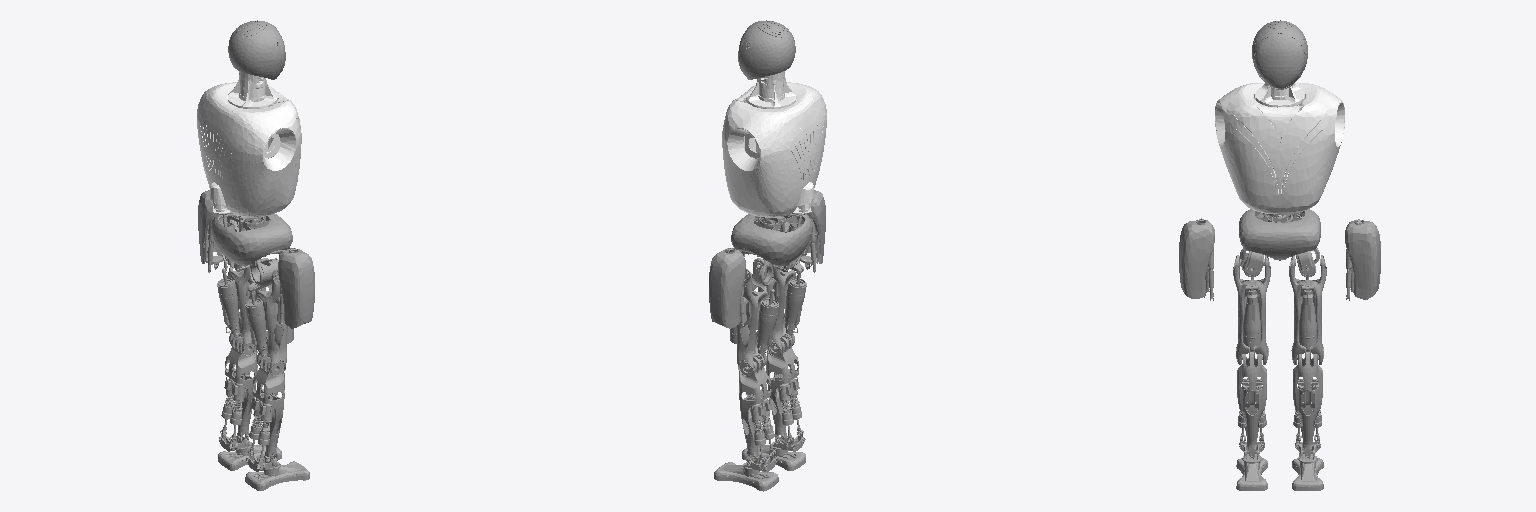
--- Facts derived from the render (not from the file) ---
The picture shows the robot from 3 angles, left to right: view 1: azimuth 30°, elevation 25°; view 2: azimuth 150°, elevation 25°; view 3: azimuth 270°, elevation 25°; orthographic projection.
Robot: RH5 — 56 links, 55 joints (32 revolute, 23 fixed); root link RH5_Root_Link; default pose: every joint at zero.
Visible links, largest first — view 1: BodyYaw_Link, RH5_Root_Link, HeadYaw_Link, LRKnee_Link, ARWristRoll_Link, LLKnee_Link, LRHip3_Link, LRHip2_Link, LRAnkle_FT, ALWristRoll_Link, LLHip3_Link, LLAnkle_FT (+1 smaller); view 2: BodyYaw_Link, RH5_Root_Link, HeadYaw_Link, ALWristRoll_Link, LLKnee_Link, LRKnee_Link, LLHip3_Link, LLAnkle_FT, ARWristRoll_Link, LRHip3_Link, LRHip2_Link, LRAnkle_FT (+1 smaller); view 3: BodyYaw_Link, RH5_Root_Link, HeadYaw_Link, ARWristRoll_Link, ALWristRoll_Link, LRHip3_Link, LLHip3_Link, LLKnee_Link, LRKnee_Link, LLAnkle_FT, LRAnkle_FT.
Link boxes in pixels (<box>): BodyYaw_Link: <box>197,71,301,217</box>; RH5_Root_Link: <box>211,213,292,271</box>; HeadYaw_Link: <box>228,20,285,79</box>; LRKnee_Link: <box>249,356,284,462</box>; ARWristRoll_Link: <box>278,248,314,328</box>; LLKnee_Link: <box>221,336,257,442</box>; LRHip3_Link: <box>255,258,293,375</box>; LRHip2_Link: <box>245,258,278,355</box>; LRAnkle_FT: <box>245,456,309,490</box>; ALWristRoll_Link: <box>198,190,227,272</box>; LLHip3_Link: <box>227,267,265,355</box>; LLAnkle_FT: <box>218,436,281,470</box>; BodyYaw_Link: <box>722,71,826,217</box>; RH5_Root_Link: <box>731,213,812,271</box>; HeadYaw_Link: <box>738,20,795,79</box>; ALWristRoll_Link: <box>709,248,745,328</box>; LLKnee_Link: <box>739,356,774,463</box>; LRKnee_Link: <box>766,336,801,443</box>; LLHip3_Link: <box>730,258,768,376</box>; LLAnkle_FT: <box>714,456,778,491</box>; ARWristRoll_Link: <box>799,190,825,272</box>; LRHip3_Link: <box>758,267,796,355</box>; LRHip2_Link: <box>785,262,806,335</box>; LRAnkle_FT: <box>742,436,805,470</box>; BodyYaw_Link: <box>1215,83,1344,214</box>; RH5_Root_Link: <box>1239,209,1320,260</box>; HeadYaw_Link: <box>1252,20,1307,89</box>; ARWristRoll_Link: <box>1179,218,1214,300</box>; ALWristRoll_Link: <box>1345,219,1380,300</box>; LRHip3_Link: <box>1233,255,1270,364</box>; LLHip3_Link: <box>1289,255,1326,364</box>; LLKnee_Link: <box>1293,347,1322,457</box>; LRKnee_Link: <box>1237,347,1266,457</box>; LLAnkle_FT: <box>1292,441,1323,490</box>; LRAnkle_FT: <box>1236,441,1267,490</box>.
Bounding box of the posed robot: 0.3672 × 0.8021 × 1.98 m (x, y, z).
Meshes: 53 distinct files referenced, 65 mesh visuals loaded (42 binary STL); not drawn: 17 (reference not matched to a file when rendering).

URDF robot description (RH5):
<robot name="RH5">
  <joint name="ALElbow" type="revolute">
    <origin xyz="0.0 0.0 0.355" rpy="1.5708 -1.5708 0.0"/>
    <axis xyz="0.0 0.0 -1.0"/>
    <parent link="ALShoulder3_Link"/>
    <child link="ALElbow_Link"/>
    <limit effort="30.0" lower="-1.62" upper="0.1872" velocity="1.8326"/>
  </joint>
  <link name="ALElbow_Link">
    <inertial>
      <origin xyz="0.010641 3.9392e-07 0.0080701" rpy="0.0 0.0 0.0"/>
      <mass value="0.255"/>
      <inertia ixx="0.00028052" ixy="-4.0187e-09" ixz="2.2663e-05" iyy="0.00036848" iyz="2.9394e-09" izz="0.00038255"/>
    </inertial>
    <visual name="ALElbow_Link_visual">
      <origin xyz="0.0 0.0 0.0" rpy="0.0 0.0 0.0"/>
      <geometry>
        <mesh filename="../meshes/stl/ALElbow_Link.STL"/>
      </geometry>
      <material name="">
        <color rgba="0.69804 0.69804 0.69804 1.0"/>
      </material>
    </visual>
  </link>
  <joint name="ALShoulder" type="fixed">
    <origin xyz="0.012 0.313 0.386" rpy="1.5708 0.0 2.8988"/>
    <parent link="BodyYaw_Link"/>
    <child link="ALShoulder_Link"/>
    <limit effort="150.0" lower="0.0" upper="0.0" velocity="1.658"/>
  </joint>
  <joint name="ALShoulder1" type="revolute">
    <origin xyz="0.0 0.0 0.0" rpy="1.5708 -1.5708 0.0"/>
    <axis xyz="1.0 0.0 0.0"/>
    <parent link="ALShoulder_Link"/>
    <child link="ALShoulder1_Link"/>
    <limit effort="135.0" lower="-3.0543" upper="3.0543" velocity="1.8326"/>
  </joint>
  <link name="ALShoulder1_Link">
    <inertial>
      <origin xyz="-0.053027 0.0029798 -1.6132e-07" rpy="0.0 0.0 0.0"/>
      <mass value="0.47438"/>
      <inertia ixx="0.0013753" ixy="3.4317e-05" ixz="-5.2624e-09" iyy="0.00084701" iyz="1.2533e-08" izz="0.0018205"/>
    </inertial>
    <visual name="ALShoulder1_Link_visual">
      <origin xyz="0.0 0.0 0.0" rpy="0.0 0.0 0.0"/>
      <geometry>
        <mesh filename="../meshes/stl/ALShoulder1_Link.STL"/>
      </geometry>
      <material name="">
        <color rgba="0.69804 0.69804 0.69804 1.0"/>
      </material>
    </visual>
  </link>
  <joint name="ALShoulder2" type="revolute">
    <origin xyz="0.0 0.0 0.0" rpy="0.0 1.9722e-31 0.0"/>
    <axis xyz="0.0 1.0 0.0"/>
    <parent link="ALShoulder1_Link"/>
    <child link="ALShoulder2_Link"/>
    <limit effort="167.0" lower="-0.5236" upper="1.571" velocity="1.8326"/>
  </joint>
  <link name="ALShoulder2_Link">
    <inertial>
      <origin xyz="2.5304e-05 0.0076989 0.0023608" rpy="0.0 0.0 0.0"/>
      <mass value="0.98"/>
      <inertia ixx="0.0012245" ixy="3.9462e-07" ixz="5.5448e-07" iyy="0.0010372" iyz="3.2296e-05" izz="0.0012057"/>
    </inertial>
    <visual name="ALShoulder2_Link_visual">
      <origin xyz="0.0 0.0 0.0" rpy="0.0 0.0 0.0"/>
      <geometry>
        <mesh filename="../meshes/stl/ALShoulder2_Link.STL"/>
      </geometry>
      <material name="">
        <color rgba="0.69804 0.69804 0.69804 1.0"/>
      </material>
    </visual>
  </link>
  <joint name="ALShoulder3" type="revolute">
    <origin xyz="0.0 0.0 0.0" rpy="0.0 1.9722e-31 0.0"/>
    <axis xyz="0.0 0.0 1.0"/>
    <parent link="ALShoulder2_Link"/>
    <child link="ALShoulder3_Link"/>
    <limit effort="53.0" lower="-3.0543" upper="3.0543" velocity="1.8326"/>
  </joint>
  <link name="ALShoulder3_Link">
    <inertial>
      <origin xyz="7.9284e-06 3.7845e-05 0.16439" rpy="0.0 0.0 0.0"/>
      <mass value="1.3999"/>
      <inertia ixx="0.013898" ixy="1.2682e-06" ixz="8.7833e-07" iyy="0.013686" iyz="2.7121e-06" izz="0.0019878"/>
    </inertial>
    <visual name="ALShoulder3_Link_visual">
      <origin xyz="0.0 0.0 0.0" rpy="0.0 0.0 0.0"/>
      <geometry>
        <mesh filename="../meshes/stl/ALShoulder3_Link.STL"/>
      </geometry>
      <material name="">
        <color rgba="0.69804 0.69804 0.69804 1.0"/>
      </material>
    </visual>
    <collision name="ALShoulder3_Link_collision">
      <origin xyz="-1.862645149230957e-09 4.284083843231201e-08 0.2224999964237213" rpy="0.0 -0.0 0.0"/>
      <geometry>
        <box size="0.08700039610266685 0.11106326058506966 0.34700000286102295"/>
      </geometry>
    </collision>
  </link>
  <link name="ALShoulder_Link"/>
  <joint name="ALWristPitch" type="revolute">
    <origin xyz="0.0 0.0 0.0" rpy="-4.9304e-32 -9.5526e-32 0.0"/>
    <axis xyz="0.0 1.0 0.0"/>
    <parent link="ALWristYaw_Link"/>
    <child link="ALWristPitch_Link"/>
    <limit effort="12.5" lower="-3.1416" upper="3.1416" velocity="5.0"/>
  </joint>
  <link name="ALWristPitch_Link">
    <inertial>
      <origin xyz="3.0531e-14 -6.0923e-15 -3.3085e-14" rpy="0.0 0.0 0.0"/>
      <mass value="6.2832e-06"/>
      <inertia ixx="3.6652e-12" ixy="1.757e-26" ixz="2.9539e-41" iyy="3.1416e-12" iyz="-9.766e-28" izz="3.6652e-12"/>
    </inertial>
    <visual name="ALWristPitch_Link_visual">
      <origin xyz="0.0 0.0 0.0" rpy="0.0 0.0 0.0"/>
      <geometry>
        <mesh filename="../meshes/stl/ALWristPitch_Link.STL"/>
      </geometry>
      <material name="">
        <color rgba="0.79216 0.81961 0.93333 1.0"/>
      </material>
    </visual>
  </link>
  <joint name="ALWristRoll" type="revolute">
    <origin xyz="0.386 0.0 0.0" rpy="-1.5708 3.1415926536 1.5708"/>
    <axis xyz="0.0 0.0 -1.0"/>
    <parent link="ALElbow_Link"/>
    <child link="ALWristRoll_Link"/>
    <limit effort="53.0" lower="-3.0543" upper="3.0543" velocity="1.8326"/>
  </joint>
  <link name="ALWristRoll_Link">
    <inertial>
      <origin xyz="0.025274 -4.3815e-06 0.19965" rpy="0.0 0.0 0.0"/>
      <mass value="2.7535303221510077"/>
      <inertia ixx="0.02143437784400675" ixy="-9.847185892502454e-07" ixz="0.002595868954405005" iyy="0.02185740729863702" iyz="9.795344617435307e-07" izz="0.005193234315356229"/>
    </inertial>
    <visual name="ALWristRoll_Link_visual">
      <origin xyz="0.0 0.0 0.0" rpy="0.0 0.0 0.0"/>
      <geometry>
        <mesh filename="../meshes/stl/ALWristRoll_Link.STL"/>
      </geometry>
      <material name="">
        <color rgba="0.69804 0.69804 0.69804 1.0"/>
      </material>
    </visual>
    <collision name="ALWristRoll_Link_collision">
      <origin xyz="0.014875711873173714 0.0 0.16224999818950891" rpy="0.0 -0.0 0.0"/>
      <geometry>
        <box size="0.13932063803076744 0.11817342042922974 0.34249999932944775"/>
      </geometry>
    </collision>
    <visual name="ALWrist_B11_Link_visual">
      <origin xyz="-0.032 -0.016 0.2616" rpy="3.0704 -3.3070000000000003e-15 -2.7145e-14"/>
      <geometry>
        <mesh filename="../meshes/stl/ALWrist_B11_Link.STL"/>
      </geometry>
      <material name="">
        <color rgba="0.64706 0.61961 0.58824 1.0"/>
      </material>
    </visual>
    <visual name="ALWrist_B12_Link_visual">
      <origin xyz="-0.032 -0.016 0.2616" rpy="3.070392054331078 0.014927088938295474 -0.0010645773830478876"/>
      <geometry>
        <mesh filename="../meshes/stl/ALWrist_B12_Link.STL"/>
      </geometry>
      <material name="">
        <color rgba="0.69804 0.69804 0.69804 1.0"/>
      </material>
    </visual>
    <visual name="ALWrist_Act1_Link_visual">
      <origin xyz="-0.03600014483987568 -0.03501230750565344 -0.005003014057550548" rpy="3.1415480000000042 -2.3388489558662824e-15 -1.3532290290170274e-14"/>
      <geometry>
        <mesh filename="../meshes/stl/ALWrist_Act1_Link.STL"/>
      </geometry>
      <material name="">
        <color rgba="0.69804 0.69804 0.69804 1.0"/>
      </material>
    </visual>
    <visual name="ALWrist_B21_Link_visual">
      <origin xyz="-0.032 0.016 0.2616" rpy="-3.0704 0.014927000000000003 0.0010639000000000002"/>
      <geometry>
        <mesh filename="../meshes/stl/ALWrist_B21_Link.STL"/>
      </geometry>
      <material name="">
        <color rgba="0.64706 0.61961 0.58824 1.0"/>
      </material>
    </visual>
    <visual name="ALWrist_B22_Link_visual">
      <origin xyz="-0.032 0.016 0.2616" rpy="-3.0703969702485048 0.017543554826743444 0.0012505233584122017"/>
      <geometry>
        <mesh filename="../meshes/stl/ALWrist_B22_Link.STL"/>
      </geometry>
      <material name="">
        <color rgba="0.69804 0.69804 0.69804 1.0"/>
      </material>
    </visual>
    <visual name="ALWrist_Act2_Link_visual">
      <origin xyz="-0.036000141211532416 0.035010257045837365 -0.0050040824232726044" rpy="-3.0704 0.014927 0.0010639000000000533"/>
      <geometry>
        <mesh filename="../meshes/stl/ALWrist_Act2_Link.STL"/>
      </geometry>
      <material name="">
        <color rgba="0.69804 0.69804 0.69804 1.0"/>
      </material>
    </visual>
  </link>
  <joint name="ALWristYaw" type="revolute">
    <origin xyz="0.0 0.0 0.0" rpy="-4.9304e-32 -9.5526e-32 0.0"/>
    <axis xyz="1.0 0.0 0.0"/>
    <parent link="ALWristRoll_Link"/>
    <child link="ALWristYaw_Link"/>
    <limit effort="12.5" lower="-1.2566" upper="0.7853" velocity="5.0"/>
  </joint>
  <link name="ALWristYaw_Link">
    <inertial>
      <origin xyz="-3.8303e-15 -5.8703e-15 -1.6653e-16" rpy="0.0 0.0 0.0"/>
      <mass value="0.006976"/>
      <inertia ixx="1.0349e-06" ixy="-7.3387e-21" ixz="1.7878e-22" iyy="4.8433e-07" iyz="-5.1569e-21" izz="1.4399e-06"/>
    </inertial>
    <visual name="ALWristYaw_Link_visual">
      <origin xyz="0.0 0.0 0.0" rpy="0.0 0.0 0.0"/>
      <geometry>
        <mesh filename="../meshes/stl/ALWristYaw_Link.STL"/>
      </geometry>
      <material name="">
        <color rgba="0.79216 0.81961 0.93333 1.0"/>
      </material>
    </visual>
  </link>
  <link name="ALWrist_FT">
    <inertial>
      <origin xyz="0.0013964 -8.0618e-05 0.041768" rpy="0.0 0.0 0.0"/>
      <mass value="0.46746"/>
      <inertia ixx="0.0011813" ixy="9.7393e-07" ixz="-6.577e-05" iyy="0.00099999" iyz="3.5173e-06" izz="0.00055976"/>
    </inertial>
    <visual name="ALWrist_FT_visual">
      <origin xyz="0.0 0.0 0.0" rpy="0.0 0.0 0.0"/>
      <geometry>
        <mesh filename="../meshes/stl/ALWrist_FT.STL"/>
      </geometry>
      <material name="">
        <color rgba="0.69804 0.69804 0.69804 1.0"/>
      </material>
    </visual>
    <collision name="ALWrist_FT_collision">
      <origin xyz="0.004535641521215439 -9.125098586082458e-06 0.05165606364607811" rpy="0.0 -0.0 0.0"/>
      <geometry>
        <box size="0.0960712879896164 0.1100204549729824 0.1812121346592903"/>
      </geometry>
    </collision>
  </link>
  <joint name="ALWrist_FT" type="fixed">
    <origin xyz="0.0 0.0 -0.02995" rpy="-3.1416 -2.9034e-15 1.6653e-16"/>
    <axis xyz="0.0 0.0 0.0"/>
    <parent link="ALWristPitch_Link"/>
    <child link="ALWrist_FT"/>
  </joint>
  <link name="object_link"/>
  <joint name="object" type="fixed">
    <origin xyz="-0.25 0.0 0" rpy="1.5708 -1.5708 0"/>
    <axis xyz="0.0 0.0 0.0"/>
    <parent link="ARWrist_FT"/>
    <child link="object_link"/>
  </joint>
  <joint name="ARElbow" type="revolute">
    <origin xyz="0.0 0.0 0.355" rpy="1.5708 -1.5708 0.0"/>
    <axis xyz="0.0 0.0 -1.0"/>
    <parent link="ARShoulder3_Link"/>
    <child link="ARElbow_Link"/>
    <limit effort="30.0" lower="-0.1872" upper="1.62" velocity="1.8326"/>
  </joint>
  <link name="ARElbow_Link">
    <inertial>
      <origin xyz="0.010641 3.9392e-07 0.0080701" rpy="0.0 0.0 0.0"/>
      <mass value="0.255"/>
      <inertia ixx="0.00028052" ixy="-4.0187e-09" ixz="2.2663e-05" iyy="0.00036848" iyz="2.9394e-09" izz="0.00038255"/>
    </inertial>
    <visual name="ARElbow_Link_visual">
      <origin xyz="0.0 0.0 0.0" rpy="0.0 0.0 0.0"/>
      <geometry>
        <mesh filename="../meshes/stl/ALElbow_Link.STL"/>
      </geometry>
      <material name="">
        <color rgba="0.69804 0.69804 0.69804 1.0"/>
      </material>
    </visual>
  </link>
  <joint name="ARShoulder" type="fixed">
    <origin xyz="0.012 -0.313 0.386" rpy="1.5708 0.0 0.2428"/>
    <parent link="BodyYaw_Link"/>
    <child link="ARShoulder_Link"/>
    <limit effort="150.0" lower="0.0" upper="0.0" velocity="1.658"/>
  </joint>
  <joint name="ARShoulder1" type="revolute">
    <origin xyz="0.0 0.0 0.0" rpy="1.5708 1.5708 0.0"/>
    <axis xyz="-1.0 0.0 0.0"/>
    <parent link="ARShoulder_Link"/>
    <child link="ARShoulder1_Link"/>
    <limit effort="135.0" lower="-3.0543" upper="3.0543" velocity="1.8326"/>
  </joint>
  <link name="ARShoulder1_Link">
    <inertial>
      <origin xyz="0.053027 0.0029798 1.6135e-07" rpy="0.0 0.0 0.0"/>
      <mass value="0.47438"/>
      <inertia ixx="0.0013753" ixy="-3.4317e-05" ixz="-5.2626e-09" iyy="0.000847" iyz="-1.2533e-08" izz="0.0018205"/>
    </inertial>
    <visual name="ARShoulder1_Link_visual">
      <origin xyz="0.0 0.0 0.0" rpy="0.0 0.0 0.0"/>
      <geometry>
        <mesh filename="../meshes/stl/ARShoulder1_Link.STL"/>
      </geometry>
      <material name="">
        <color rgba="0.69804 0.69804 0.69804 1.0"/>
      </material>
    </visual>
  </link>
  <joint name="ARShoulder2" type="revolute">
    <origin xyz="0.0 0.0 0.0" rpy="0.0 -1.9722e-31 0.0"/>
    <axis xyz="0.0 1.0 0.0"/>
    <parent link="ARShoulder1_Link"/>
    <child link="ARShoulder2_Link"/>
    <limit effort="167.0" lower="-1.571" upper="0.5236" velocity="1.8326"/>
  </joint>
  <link name="ARShoulder2_Link">
    <inertial>
      <origin xyz="2.5307e-05 0.0076989 0.0023608" rpy="0.0 0.0 0.0"/>
      <mass value="0.98"/>
      <inertia ixx="0.0012245" ixy="3.9471e-07" ixz="5.5464e-07" iyy="0.0010372" iyz="3.2296e-05" izz="0.0012057"/>
    </inertial>
    <visual name="ARShoulder2_Link_visual">
      <origin xyz="0.0 0.0 0.0" rpy="0.0 0.0 0.0"/>
      <geometry>
        <mesh filename="../meshes/stl/ARShoulder2_Link.STL"/>
      </geometry>
      <material name="">
        <color rgba="0.69804 0.69804 0.69804 1.0"/>
      </material>
    </visual>
  </link>
  <joint name="ARShoulder3" type="revolute">
    <origin xyz="0.0 0.0 0.0" rpy="0.0 1.9722e-31 0.0"/>
    <axis xyz="0.0 0.0 1.0"/>
    <parent link="ARShoulder2_Link"/>
    <child link="ARShoulder3_Link"/>
    <limit effort="53.0" lower="-3.0543" upper="3.0543" velocity="1.8326"/>
  </joint>
  <link name="ARShoulder3_Link">
    <inertial>
      <origin xyz="7.9284e-06 3.7845e-05 0.16439" rpy="0.0 0.0 0.0"/>
      <mass value="1.3999"/>
      <inertia ixx="0.013898" ixy="1.2682e-06" ixz="8.7833e-07" iyy="0.013686" iyz="2.7121e-06" izz="0.0019878"/>
    </inertial>
    <visual name="ARShoulder3_Link_visual">
      <origin xyz="0.0 0.0 0.0" rpy="0.0 0.0 0.0"/>
      <geometry>
        <mesh filename="../meshes/stl/ALShoulder3_Link.STL"/>
      </geometry>
      <material name="">
        <color rgba="0.69804 0.69804 0.69804 1.0"/>
      </material>
    </visual>
    <collision name="ARShoulder3_Link_collision">
      <origin xyz="-1.862645149230957e-09 4.284083843231201e-08 0.2224999964237213" rpy="0.0 -0.0 0.0"/>
      <geometry>
        <box size="0.08700039610266685 0.11106326058506966 0.34700000286102295"/>
      </geometry>
    </collision>
  </link>
  <link name="ARShoulder_Link"/>
  <joint name="ARWristPitch" type="revolute">
    <origin xyz="0.0 0.0 0.0" rpy="-4.9304e-32 -9.5526e-32 0.0"/>
    <axis xyz="0.0 1.0 0.0"/>
    <parent link="ARWristYaw_Link"/>
    <child link="ARWristPitch_Link"/>
    <limit effort="12.5" lower="-3.1416" upper="3.1416" velocity="5.0"/>
  </joint>
  <link name="ARWristPitch_Link">
    <inertial>
      <origin xyz="3.0531e-14 -6.0923e-15 -3.3085e-14" rpy="0.0 0.0 0.0"/>
      <mass value="6.2832e-06"/>
      <inertia ixx="3.6652e-12" ixy="1.757e-26" ixz="2.9539e-41" iyy="3.1416e-12" iyz="-9.766e-28" izz="3.6652e-12"/>
    </inertial>
    <visual name="ARWristPitch_Link_visual">
      <origin xyz="0.0 0.0 0.0" rpy="0.0 0.0 0.0"/>
      <geometry>
        <mesh filename="../meshes/stl/ALWristPitch_Link.STL"/>
      </geometry>
      <material name="">
        <color rgba="0.79216 0.81961 0.93333 1.0"/>
      </material>
    </visual>
  </link>
  <joint name="ARWristRoll" type="revolute">
    <origin xyz="0.386 0.0 0.0" rpy="-1.5708 0.0 1.5708"/>
    <axis xyz="0.0 0.0 -1.0"/>
    <parent link="ARElbow_Link"/>
    <child link="ARWristRoll_Link"/>
    <limit effort="53.0" lower="-3.0543" upper="3.0543" velocity="1.8326"/>
  </joint>
  <link name="ARWristRoll_Link">
    <inertial>
      <origin xyz="0.025274 -4.3815e-06 0.19965" rpy="0.0 0.0 0.0"/>
      <mass value="2.7535303221510077"/>
      <inertia ixx="0.02143437784400675" ixy="-9.847185892502454e-07" ixz="0.002595868954405005" iyy="0.02185740729863702" iyz="9.795344617435307e-07" izz="0.005193234315356229"/>
    </inertial>
    <visual name="ARWristRoll_Link_visual">
      <origin xyz="0.0 0.0 0.0" rpy="0.0 0.0 0.0"/>
      <geometry>
        <mesh filename="../meshes/stl/ALWristRoll_Link.STL"/>
      </geometry>
      <material name="">
        <color rgba="0.69804 0.69804 0.69804 1.0"/>
      </material>
    </visual>
    <collision name="ARWristRoll_Link_collision">
      <origin xyz="0.014875711873173714 0.0 0.16224999818950891" rpy="0.0 -0.0 0.0"/>
      <geometry>
        <box size="0.13932063803076744 0.11817342042922974 0.34249999932944775"/>
      </geometry>
    </collision>
    <visual name="ARWrist_B11_Link_visual">
      <origin xyz="-0.032 -0.016 0.2616" rpy="3.0704 -3.3070000000000003e-15 -2.7145e-14"/>
      <geometry>
        <mesh filename="../meshes/stl/ALWrist_B11_Link.STL"/>
      </geometry>
      <material name="">
        <color rgba="0.64706 0.61961 0.58824 1.0"/>
      </material>
    </visual>
    <visual name="ARWrist_B12_Link_visual">
      <origin xyz="-0.032 -0.016 0.2616" rpy="3.070392054331078 0.014927088938295474 -0.0010645773830478876"/>
      <geometry>
        <mesh filename="../meshes/stl/ALWrist_B12_Link.STL"/>
      </geometry>
      <material name="">
        <color rgba="0.69804 0.69804 0.69804 1.0"/>
      </material>
    </visual>
    <visual name="ARWrist_Act1_Link_visual">
      <origin xyz="-0.03600014483987568 -0.03501230750565344 -0.005003014057550548" rpy="3.1415480000000042 -2.3388489558662824e-15 -1.3532290290170274e-14"/>
      <geometry>
        <mesh filename="../meshes/stl/ALWrist_Act1_Link.STL"/>
      </geometry>
      <material name="">
        <color rgba="0.69804 0.69804 0.69804 1.0"/>
      </material>
    </visual>
    <visual name="ARWrist_B21_Link_visual">
      <origin xyz="-0.032 0.016 0.2616" rpy="-3.0704 0.014927000000000003 0.0010639000000000002"/>
      <geometry>
        <mesh filename="../meshes/stl/ALWrist_B21_Link.STL"/>
      </geometry>
      <material name="">
        <color rgba="0.64706 0.61961 0.58824 1.0"/>
      </material>
    </visual>
    <visual name="ARWrist_B22_Link_visual">
      <origin xyz="-0.032 0.016 0.2616" rpy="-3.0703969702485048 0.017543554826743444 0.0012505233584122017"/>
      <geometry>
        <mesh filename="../meshes/stl/ALWrist_B22_Link.STL"/>
      </geometry>
      <material name="">
        <color rgba="0.69804 0.69804 0.69804 1.0"/>
      </material>
    </visual>
    <visual name="ARWrist_Act2_Link_visual">
      <origin xyz="-0.036000141211532416 0.035010257045837365 -0.0050040824232726044" rpy="-3.0704 0.014927 0.0010639000000000533"/>
      <geometry>
        <mesh filename="../meshes/stl/ALWrist_Act2_Link.STL"/>
      </geometry>
      <material name="">
        <color rgba="0.69804 0.69804 0.69804 1.0"/>
      </material>
    </visual>
  </link>
  <joint name="ARWristYaw" type="revolute">
    <origin xyz="0.0 0.0 0.0" rpy="-4.9304e-32 -9.5526e-32 0.0"/>
    <axis xyz="1.0 0.0 0.0"/>
    <parent link="ARWristRoll_Link"/>
    <child link="ARWristYaw_Link"/>
    <limit effort="12.5" lower="-1.2566" upper="0.7853" velocity="5.0"/>
  </joint>
  <link name="ARWristYaw_Link">
    <inertial>
      <origin xyz="-3.8303e-15 -5.8703e-15 -1.6653e-16" rpy="0.0 0.0 0.0"/>
      <mass value="0.006976"/>
      <inertia ixx="1.0349e-06" ixy="-7.3387e-21" ixz="1.7878e-22" iyy="4.8433e-07" iyz="-5.1569e-21" izz="1.4399e-06"/>
    </inertial>
    <visual name="ARWristYaw_Link_visual">
      <origin xyz="0.0 0.0 0.0" rpy="0.0 0.0 0.0"/>
      <geometry>
        <mesh filename="../meshes/stl/ALWristYaw_Link.STL"/>
      </geometry>
      <material name="">
        <color rgba="0.79216 0.81961 0.93333 1.0"/>
      </material>
    </visual>
  </link>
  <link name="ARWrist_FT">
    <inertial>
      <origin xyz="0.0013964 -8.0618e-05 0.041768" rpy="0.0 0.0 0.0"/>
      <mass value="0.46746"/>
      <inertia ixx="0.0011813" ixy="9.7393e-07" ixz="-6.577e-05" iyy="0.00099999" iyz="3.5173e-06" izz="0.00055976"/>
    </inertial>
    <visual name="ARWrist_FT_visual">
      <origin xyz="0.0 0.0 0.0" rpy="0.0 0.0 0.0"/>
      <geometry>
        <mesh filename="../meshes/stl/ALWrist_FT.STL"/>
      </geometry>
      <material name="">
        <color rgba="0.69804 0.69804 0.69804 1.0"/>
      </material>
    </visual>
    <collision name="ARWrist_FT_collision">
      <origin xyz="0.004535641521215439 -9.125098586082458e-06 0.05165606364607811" rpy="0.0 -0.0 0.0"/>
      <geometry>
        <box size="0.0960712879896164 0.1100204549729824 0.1812121346592903"/>
      </geometry>
    </collision>
  </link>
  <joint name="ARWrist_FT" type="fixed">
    <origin xyz="0.0 0.0 -0.02995" rpy="-3.1416 -2.9034e-15 1.6653e-16"/>
    <axis xyz="0.0 0.0 0.0"/>
    <parent link="ARWristPitch_Link"/>
    <child link="ARWrist_FT"/>
  </joint>
  <joint name="BodyPitch" type="revolute">
    <origin xyz="0.048 0.0 0.217" rpy="-2.6535895865327376e-06 7.597036925082506e-19 -3.673200206740934e-06"/>
    <axis xyz="0.0 1.0 0.0"/>
    <parent link="RH5_Root_Link"/>
    <child link="BodyPitch_Link"/>
    <limit effort="140.0" lower="-0.367" upper="0.489" velocity="2.321"/>
  </joint>
  <link name="BodyPitch_Link">
    <inertial>
      <origin xyz="-1.3464e-09 2.3289e-09 2.2552e-09" rpy="0.0 0.0 0.0"/>
      <mass value="0.085152"/>
      <inertia ixx="2.6756e-05" ixy="-2.1852e-12" ixz="-2.2958e-12" iyy="2.6756e-05" iyz="-2.6082e-13" izz="5.0206e-05"/>
    </inertial>
    <visual name="BodyPitch_Link_visual">
      <origin xyz="0.0 0.0 0.0" rpy="0.0 0.0 0.0"/>
      <geometry>
        <mesh filename="../meshes/stl/BodyPitch_Link.STL"/>
      </geometry>
      <material name="">
        <color rgba="0.89804 0.91765 0.92941 1.0"/>
      </material>
    </visual>
  </link>
  <joint name="BodyRoll" type="revolute">
    <origin xyz="0.0 0.0 0.0" rpy="9.4311e-35 0.0 0.0"/>
    <axis xyz="1.0 0.0 0.0"/>
    <parent link="BodyPitch_Link"/>
    <child link="BodyRoll_Link"/>
    <limit effort="140.0" lower="-0.402" upper="0.402" velocity="2.321"/>
  </joint>
  <link name="BodyRoll_Link">
    <inertial>
      <origin xyz="-0.018531 1.3194e-09 0.025426" rpy="0.0 0.0 0.0"/>
      <mass value="0.31532"/>
      <inertia ixx="0.00053663" ixy="-3.6063e-10" ixz="-2.5818e-05" iyy="0.00050964" iyz="-3.7361e-11" izz="0.00097717"/>
    </inertial>
    <visual name="BodyRoll_Link_visual">
      <origin xyz="0.0 0.0 0.0" rpy="0.0 0.0 0.0"/>
      <geometry>
        <mesh filename="../meshes/stl/BodyRoll_Link.STL"/>
      </geometry>
      <material name="">
        <color rgba="0.69804 0.69804 0.69804 1.0"/>
      </material>
    </visual>
  </link>
  <joint name="BodyYaw" type="revolute">
    <origin xyz="0.0 0.0 0.0" rpy="9.4311e-35 0.0 0.0"/>
    <axis xyz="0.0 0.0 1.0"/>
    <parent link="BodyRoll_Link"/>
    <child link="BodyYaw_Link"/>
    <limit effort="23.0" lower="-0.523567" upper="0.523567" velocity="1.8326"/>
  </joint>
  <link name="BodyYaw_Link">
    <inertial>
      <origin xyz="-0.015999 0.00018406 0.27483" rpy="0.0 0.0 0.0"/>
      <mass value="27.404130022029797"/>
      <inertia ixx="1.1652166797" ixy="-5.024951000000556e-05" ixz="-0.02769700000269703" iyy="0.9892691615" iyz="-0.0005796599830185423" izz="0.6068650699999999"/>
    </inertial>
    <visual name="BodyYaw_Link_visual">
      <origin xyz="0.0 0.0 0.0" rpy="0.0 0.0 0.0"/>
      <geometry>
        <mesh filename="../meshes/stl/BodyYaw_Link.STL"/>
      </geometry>
      <material name="">
        <color rgba="1.0 1.0 1.0 1.0"/>
      </material>
    </visual>
    <collision name="BodyYaw_Link_collision">
      <origin xyz="-0.006467804312705994 -2.5704503059387207e-05 0.2807557052001357" rpy="0.0 -0.0 0.0"/>
      <geometry>
        <box size="0.3599925637245178 0.514311820268631 0.5017095673829317"/>
      </geometry>
    </collision>
    <visual name="BodyYaw_Act1_Link_visual">
      <origin xyz="-0.145 0.0 0.04741" rpy="-1.0007e-16 -0.0 -3.4915e-15"/>
      <geometry>
        <mesh filename="../meshes/stl/BodyYaw_Act1_Link.STL"/>
      </geometry>
      <material name="">
        <color rgba="0.69804 0.69804 0.69804 1.0"/>
      </material>
    </visual>
    <visual name="BodyYaw_B11_Link_visual">
      <origin xyz="-0.1453183599999999 0.029998 0.04741" rpy="1.5707999999999998 -0.0 -3.4915e-15"/>
      <geometry>
        <mesh filename="../meshes/stl/BodyYaw_B11_Link.STL"/>
      </geometry>
      <material name="">
        <color rgba="0.69804 0.69804 0.69804 1.0"/>
      </material>
    </visual>
    <visual name="BodyYaw_B21_Link_visual">
      <origin xyz="-0.14468164000000008 -0.029998 0.04741" rpy="1.5707999999999998 -0.0 -3.4915e-15"/>
      <geometry>
        <mesh filename="../meshes/stl/BodyYaw_B21_Link.STL"/>
      </geometry>
      <material name="">
        <color rgba="0.69804 0.69804 0.69804 1.0"/>
      </material>
    </visual>
  </link>
  <joint name="Camera_Left" type="fixed">
    <origin xyz="0.12605 0.0402 0.089608" rpy="0.0 0.0 0.0"/>
    <axis xyz="0.0 0.0 0.0"/>
    <parent link="HeadYaw_Link"/>
    <child link="Camera_Left_Link"/>
  </joint>
  <link name="Camera_Left_Link"/>
  <joint name="Camera_Right" type="fixed">
    <origin xyz="0.12605 -0.0402 0.089608" rpy="0.0 0.0 0.0"/>
    <axis xyz="0.0 0.0 0.0"/>
    <parent link="HeadYaw_Link"/>
    <child link="Camera_Right_Link"/>
  </joint>
  <link name="Camera_Right_Link"/>
  <joint name="Camera_Torso" type="fixed">
    <origin xyz="0.182 0.0 0.383" rpy="0.0 0.0 0.0"/>
    <parent link="BodyYaw_Link"/>
    <child link="Camera_Torso_Link"/>
  </joint>
  <link name="Camera_Torso_Link"/>
  <joint name="FLC_FrontLeft" type="fixed">
    <origin xyz="0.13 -0.04 0.0274" rpy="3.1416 0.0 0.0"/>
    <axis xyz="0.0 0.0 0.0"/>
    <parent link="LLAnkle_FT"/>
    <child link="FLC_FrontLeft_Link"/>
  </joint>
  <link name="FLC_FrontLeft_Link">
    <collision name="FLC_FrontLeft_Collision">
      <origin xyz="0.0 0.0 0.0" rpy="0.0 0.0 0.0"/>
      <geometry>
        <sphere radius="0.017"/>
      </geometry>
    </collision>
  </link>
  <joint name="FLC_FrontRight" type="fixed">
    <origin xyz="0.13 0.04 0.0274" rpy="3.1416 0.0 0.0"/>
    <axis xyz="0.0 0.0 0.0"/>
    <parent link="LLAnkle_FT"/>
    <child link="FLC_FrontRight_Link"/>
  </joint>
  <link name="FLC_FrontRight_Link">
    <collision name="FLC_FrontRight_Collision">
      <origin xyz="0.0 0.0 0.0" rpy="0.0 0.0 0.0"/>
      <geometry>
        <sphere radius="0.017"/>
      </geometry>
    </collision>
  </link>
  <joint name="FLC_RearLeft" type="fixed">
    <origin xyz="-0.07 -0.04 0.0274" rpy="3.1416 0.0 0.0"/>
    <axis xyz="0.0 0.0 0.0"/>
    <parent link="LLAnkle_FT"/>
    <child link="FLC_RearLeft_Link"/>
  </joint>
  <link name="FLC_RearLeft_Link">
    <collision name="FLC_RearLeft_Collision">
      <origin xyz="0.0 0.0 0.0" rpy="0.0 0.0 0.0"/>
      <geometry>
        <sphere radius="0.017"/>
      </geometry>
    </collision>
  </link>
  <joint name="FLC_RearRight" type="fixed">
    <origin xyz="-0.07 0.04 0.0274" rpy="3.1416 0.0 0.0"/>
    <axis xyz="0.0 0.0 0.0"/>
    <parent link="LLAnkle_FT"/>
    <child link="FLC_RearRight_Link"/>
  </joint>
  <link name="FLC_RearRight_Link">
    <collision name="FLC_RearRight_Collision">
      <origin xyz="0.0 0.0 0.0" rpy="0.0 0.0 0.0"/>
      <geometry>
        <sphere radius="0.017"/>
      </geometry>
    </collision>
  </link>
  <link name="FL_SupportCenter"/>
  <joint name="FL_SupportCenter" type="fixed">
    <origin xyz="0.03 0.0 0.0444" rpy="3.1416 0.0 0.0"/>
    <axis xyz="0.0 0.0 0.0"/>
    <parent link="LLAnkle_FT"/>
    <child link="FL_SupportCenter"/>
  </joint>
  <joint name="FRC_FrontLeft" type="fixed">
    <origin xyz="0.13 -0.04 0.0274" rpy="3.1416 0.0 0.0"/>
    <axis xyz="0.0 0.0 0.0"/>
    <parent link="LRAnkle_FT"/>
    <child link="FRC_FrontLeft_Link"/>
  </joint>
  <link name="FRC_FrontLeft_Link">
    <collision name="FRC_FrontLeft_Collision">
      <origin xyz="0.0 0.0 0.0" rpy="0.0 0.0 0.0"/>
      <geometry>
        <sphere radius="0.017"/>
      </geometry>
    </collision>
  </link>
  <joint name="FRC_FrontRight" type="fixed">
    <origin xyz="0.13 0.04 0.0274" rpy="3.1416 0.0 0.0"/>
    <axis xyz="0.0 0.0 0.0"/>
    <parent link="LRAnkle_FT"/>
    <child link="FRC_FrontRight_Link"/>
  </joint>
  <link name="FRC_FrontRight_Link">
    <collision name="FRC_FrontRight_Collision">
      <origin xyz="0.0 0.0 0.0" rpy="0.0 0.0 0.0"/>
      <geometry>
        <sphere radius="0.017"/>
      </geometry>
    </collision>
  </link>
  <joint name="FRC_RearLeft" type="fixed">
    <origin xyz="-0.07 -0.04 0.0274" rpy="3.1416 0.0 0.0"/>
    <axis xyz="0.0 0.0 0.0"/>
    <parent link="LRAnkle_FT"/>
    <child link="FRC_RearLeft_Link"/>
  </joint>
  <link name="FRC_RearLeft_Link">
    <collision name="FRC_RearLeft_Collision">
      <origin xyz="0.0 0.0 0.0" rpy="0.0 0.0 0.0"/>
      <geometry>
        <sphere radius="0.017"/>
      </geometry>
    </collision>
  </link>
  <joint name="FRC_RearRight" type="fixed">
    <origin xyz="-0.07 0.04 0.0274" rpy="3.1416 0.0 0.0"/>
    <axis xyz="0.0 0.0 0.0"/>
    <parent link="LRAnkle_FT"/>
    <child link="FRC_RearRight_Link"/>
  </joint>
  <link name="FRC_RearRight_Link">
    <collision name="FRC_RearRight_Collision">
      <origin xyz="0.0 0.0 0.0" rpy="0.0 0.0 0.0"/>
      <geometry>
        <sphere radius="0.017"/>
      </geometry>
    </collision>
  </link>
  <link name="FR_SupportCenter"/>
  <joint name="FR_SupportCenter" type="fixed">
    <origin xyz="0.03 0.0 0.0444" rpy="3.1416 0.0 0.0"/>
    <axis xyz="0.0 0.0 0.0"/>
    <parent link="LRAnkle_FT"/>
    <child link="FR_SupportCenter"/>
  </joint>
  <joint name="HeadPitch" type="revolute">
    <origin xyz="0.00395 0.0 0.66179" rpy="2.8216e-18 3.4225e-16 1.0489e-14"/>
    <axis xyz="0.0 1.0 0.0"/>
    <parent link="BodyYaw_Link"/>
    <child link="HeadPitch_Link"/>
    <limit effort="9.8" lower="-0.3490658504" upper="0.2617993878" velocity="8.0553657784"/>
  </joint>
  <link name="HeadPitch_Link">
    <inertial>
      <origin xyz="0.0029695 3.7352e-08 -4.1086e-09" rpy="0.0 0.0 0.0"/>
      <mass value="0.01353"/>
      <inertia ixx="1.2693e-06" ixy="2.9253e-12" ixz="-1.323e-13" iyy="2.1697e-06" iyz="-1.983e-12" izz="3.0472e-06"/>
    </inertial>
    <visual name="HeadPitch_Link_visual">
      <origin xyz="0.0 0.0 0.0" rpy="0.0 0.0 0.0"/>
      <geometry>
        <mesh filename="../meshes/stl/HeadPitch_Link.STL"/>
      </geometry>
      <material name="">
        <color rgba="0.69804 0.69804 0.69804 1.0"/>
      </material>
    </visual>
  </link>
  <joint name="HeadRoll" type="revolute">
    <origin xyz="0.0 0.0 0.0" rpy="1.6457e-37 0.0 0.0"/>
    <axis xyz="1.0 0.0 0.0"/>
    <parent link="HeadPitch_Link"/>
    <child link="HeadRoll_Link"/>
    <limit effort="9.8" lower="-0.436332313" upper="0.436332313" velocity="8.0553657784"/>
  </joint>
  <link name="HeadRoll_Link">
    <inertial>
      <origin xyz="-0.0040042 1.6567e-08 0.017195" rpy="0.0 0.0 0.0"/>
      <mass value="0.03223"/>
      <inertia ixx="1.2379e-05" ixy="7.9876e-12" ixz="-2.2191e-06" iyy="2.1298e-05" iyz="5.8926e-11" izz="1.355e-05"/>
    </inertial>
    <visual name="HeadRoll_Link_visual">
      <origin xyz="0.0 0.0 0.0" rpy="0.0 0.0 0.0"/>
      <geometry>
        <mesh filename="../meshes/stl/HeadRoll_Link.STL"/>
      </geometry>
      <material name="">
        <color rgba="0.69804 0.69804 0.69804 1.0"/>
      </material>
    </visual>
  </link>
  <joint name="HeadYaw" type="revolute">
    <origin xyz="0.0 0.0 0.0" rpy="1.6457e-37 0.0 0.0"/>
    <axis xyz="0.0 0.0 1.0"/>
    <parent link="HeadRoll_Link"/>
    <child link="HeadYaw_Link"/>
    <limit effort="4.9" lower="-1.5707963268" upper="1.5707963268" velocity="8.0553657784"/>
  </joint>
  <link name="HeadYaw_Link">
    <inertial>
      <origin xyz="0.029368 -0.00017537 0.06406" rpy="0.0 0.0 0.0"/>
      <mass value="1.7003"/>
      <inertia ixx="0.01193" ixy="-2.7459e-05" ixz="0.0010678" iyy="0.01151" iyz="-4.681e-05" izz="0.012306"/>
    </inertial>
    <visual name="HeadYaw_Link_visual">
      <origin xyz="0.0 0.0 0.0" rpy="0.0 0.0 0.0"/>
      <geometry>
        <mesh filename="../meshes/stl/HeadYaw_Link.STL"/>
      </geometry>
      <material name="">
        <color rgba="0.69804 0.69804 0.69804 1.0"/>
      </material>
    </visual>
    <collision name="HeadYaw_Link_collision">
      <origin xyz="0.017298340797424316 1.171603798866272e-05 0.04981091618537903" rpy="0.0 -0.0 0.0"/>
      <geometry>
        <sphere radius="0.1292259246110916"/>
      </geometry>
    </collision>
  </link>
  <joint name="IMU" type="fixed">
    <!-- <origin xyz="0.175 0.0 0.145" rpy="0.0 -1.57079632679 3.14159265359"/> -->
    <origin xyz="0.175 0.0 0.145" rpy="0.0 0 0"/>
    <axis xyz="0.0 0.0 0.0"/>
    <parent link="RH5_Root_Link"/>
    <child link="IMU_Link"/>
  </joint>
  <link name="IMU_Link"/>
  <joint name="Initial_root" type="fixed">
    <origin xyz="0.0 0.0 0.02" rpy="0.0 0.0 0.0"/>
    <axis xyz="0.0 0.0 0.0"/>
    <parent link="BodyYaw_Link"/>
    <child link="Initial_root_Link"/>
  </joint>
  <link name="Initial_root_Link"/>
  <joint name="LLAnklePitch" type="revolute">
    <origin xyz="0.0 0.0 0.0" rpy="0.0 0.0 0.0"/>
    <axis xyz="0.0 1.0 0.0"/>
    <parent link="LLAnkleRoll_Link"/>
    <child link="LLAnklePitch_Link"/>
    <limit effort="200.0" lower="-0.8988445648" upper="0.7853981634" velocity="6.0"/>
  </joint>
  <link name="LLAnklePitch_Link">
    <inertial>
      <origin xyz="2.8493e-18 -1.3878e-16 0.0" rpy="0.0 0.0 0.0"/>
      <mass value="0.05002825763253648"/>
      <inertia ixx="1.1393245912e-05" ixy="1.7670484276950664e-28" ixz="-1.2474451909533485e-12" iyy="1.0892263576532345e-05" iyz="0.0" izz="2.9520429504676554e-06"/>
    </inertial>
    <visual name="LLAnklePitch_Link_visual">
      <origin xyz="0.0 0.0 0.0" rpy="0.0 0.0 0.0"/>
      <geometry>
        <mesh filename="../meshes/stl/AnklePitch_Link.STL"/>
      </geometry>
      <material name="">
        <color rgba="0.79216 0.81961 0.93333 1.0"/>
      </material>
    </visual>
    <visual name="LLAnkle_E21_Link_visual">
      <origin xyz="-0.07 -0.04 0.0" rpy="-0.05066 -0.0 0.0"/>
      <geometry>
        <mesh filename="../meshes/stl/Ankle_E21_Link.STL"/>
      </geometry>
      <material name="">
        <color rgba="0.69804 0.69804 0.69804 1.0"/>
      </material>
    </visual>
    <visual name="LLAnkle_E11_Link_visual">
      <origin xyz="-0.07 0.04 0.0" rpy="0.05066 -0.0 0.0"/>
      <geometry>
        <mesh filename="../meshes/stl/Ankle_E11_Link.STL"/>
      </geometry>
      <material name="">
        <color rgba="0.69804 0.69804 0.69804 1.0"/>
      </material>
    </visual>
  </link>
  <joint name="LLAnkleRoll" type="revolute">
    <origin xyz="0.42 0.0 0.0015" rpy="1.5708 5.551115123125783e-17 -1.5708"/>
    <axis xyz="1.0 0.0 0.0"/>
    <parent link="LLKnee_Link"/>
    <child link="LLAnkleRoll_Link"/>
    <limit effort="200.0" lower="-0.9948376736" upper="0.9948376736" velocity="6.0"/>
  </joint>
  <link name="LLAnkleRoll_Link">
    <inertial>
      <origin xyz="-4.1608e-08 7.2923e-08 -5.2997e-09" rpy="0.0 0.0 0.0"/>
      <mass value="0.02493"/>
      <inertia ixx="2.9269e-06" ixy="-7.8377e-12" ixz="-1.0382e-12" iyy="1.1591e-06" iyz="1.5876e-12" izz="3.5758e-06"/>
    </inertial>
    <visual name="LLAnkleRoll_Link_visual">
      <origin xyz="0.0 0.0 0.0" rpy="0.0 0.0 0.0"/>
      <geometry>
        <mesh filename="../meshes/stl/AnkleRoll_Link.STL"/>
      </geometry>
      <material name="">
        <color rgba="0.64706 0.61961 0.58824 1.0"/>
      </material>
    </visual>
  </link>
  <link name="LLAnkle_FT">
    <inertial>
      <origin xyz="0.016102 4.5932e-05 0.0078533" rpy="0.0 0.0 0.0"/>
      <mass value="1.2348"/>
      <inertia ixx="0.0018722" ixy="1.7891e-07" ixz="-0.00077672" iyy="0.0072567" iyz="3.8393e-06" izz="0.007267"/>
    </inertial>
    <visual name="LLAnkle_FT_visual">
      <origin xyz="0.0 0.0 0.0" rpy="0.0 0.0 0.0"/>
      <geometry>
        <mesh filename="../meshes/stl/FL_FT_Link.STL"/>
      </geometry>
      <material name="">
        <color rgba="0.69804 0.69804 0.69804 1.0"/>
      </material>
    </visual>
  </link>
  <joint name="LLAnkle_FT" type="fixed">
    <origin xyz="0.0 0.0 -0.058972" rpy="-3.1416 0.0 -1.2151e-16"/>
    <axis xyz="0.0 0.0 0.0"/>
    <parent link="LLAnklePitch_Link"/>
    <child link="LLAnkle_FT"/>
  </joint>
  <joint name="LLHip1" type="revolute">
    <origin xyz="0.0735 0.11044 0.014269" rpy="8.0247e-16 0.2618 -1.5708"/>
    <axis xyz="0.0 0.0 1.0"/>
    <parent link="RH5_Root_Link"/>
    <child link="LLHip1_Link"/>
    <limit effort="135.0" lower="-0.7854" upper="0.7854" velocity="1.8326"/>
  </joint>
  <link name="LLHip1_Link">
    <inertial>
      <origin xyz="-4.7812e-08 -0.0016168 0.04962" rpy="0.0 0.0 0.0"/>
      <mass value="0.5"/>
      <inertia ixx="0.0020247" ixy="7.2405e-09" ixz="3.8164e-09" iyy="0.00095765" iyz="-0.00012913" izz="0.0015078"/>
    </inertial>
    <visual name="LLHip1_Link_visual">
      <origin xyz="0.0 0.0 0.0" rpy="0.0 0.0 0.0"/>
      <geometry>
        <mesh filename="../meshes/stl/LLHip1_Link.STL"/>
      </geometry>
      <material name="">
        <color rgba="0.69804 0.69804 0.69804 1.0"/>
      </material>
    </visual>
  </link>
  <joint name="LLHip2" type="revolute">
    <origin xyz="0.0 0.0 0.0" rpy="9.8608e-32 2.7756e-17 -4.9304e-32"/>
    <axis xyz="0.0 1.0 0.0"/>
    <parent link="LLHip1_Link"/>
    <child link="LLHip2_Link"/>
    <limit effort="135.0" lower="-0.4363" upper="0.8727" velocity="1.8326"/>
  </joint>
  <link name="LLHip2_Link">
    <inertial>
      <origin xyz="0.0013954 0.0024309 -0.0053241" rpy="0.0 0.0 0.0"/>
      <mass value="2.3580361324518035"/>
      <inertia ixx="0.008083434004413779" ixy="2.6244834705305358e-05" ixz="0.0015310237705679207" iyy="0.007915769158281745" iyz="-9.344933737144451e-05" izz="0.0027252481373044738"/>
    </inertial>
    <visual name="LLHip2_Link_visual">
      <origin xyz="0.0 0.0 0.0" rpy="0.0 0.0 0.0"/>
      <geometry>
        <mesh filename="../meshes/stl/LLHip2_Link.STL"/>
      </geometry>
      <material name="">
        <color rgba="0.69804 0.69804 0.69804 1.0"/>
      </material>
    </visual>
    <visual name="LLHip3_B11_Link_visual">
      <origin xyz="0.018117 -0.09 -0.067615" rpy="-2.5686 1.2576999999999998 0.5958800000000001"/>
      <geometry>
        <mesh filename="../meshes/stl/Hip3_B11_Link.STL"/>
      </geometry>
      <material name="">
        <color rgba="0.69804 0.69804 0.69804 1.0"/>
      </material>
    </visual>
    <visual name="LLHip3_Act1_Link_visual">
      <origin xyz="0.09393098308289657 -0.038590125898753366 -0.3505567339559511" rpy="0.5729999999999998 1.2576999999999994 0.5958800000000001"/>
      <geometry>
        <mesh filename="../meshes/stl/LLHip3_Act1_Link.STL"/>
      </geometry>
      <material name="">
        <color rgba="0.69804 0.69804 0.69804 1.0"/>
      </material>
    </visual>
  </link>
  <joint name="LLHip3" type="revolute">
    <origin xyz="0.0 0.0 0.0" rpy="9.8608e-32 2.7756e-17 -4.9304e-32"/>
    <axis xyz="-0.96593 0.0 -0.25882"/>
    <parent link="LLHip2_Link"/>
    <child link="LLHip3_Link"/>
    <limit effort="378.0" lower="-1.16" upper="0.28" velocity="2.321"/>
  </joint>
  <link name="LLHip3_Link">
    <inertial>
      <origin xyz="0.051263 0.0072511 -0.19232" rpy="0.0 0.0 0.0"/>
      <mass value="2.4377337930824305"/>
      <inertia ixx="0.0267577627146784" ixy="3.2673817728971014e-05" ixz="0.0032268691746643605" iyy="0.029394554214711634" iyz="-0.0001498356765101371" izz="0.005399934370609966"/>
    </inertial>
    <visual name="LLHip3_Link_visual">
      <origin xyz="0.0 0.0 0.0" rpy="0.0 0.0 0.0"/>
      <geometry>
        <mesh filename="../meshes/stl/Hip3_Link.STL"/>
      </geometry>
      <material name="">
        <color rgba="0.69804 0.69804 0.69804 1.0"/>
      </material>
    </visual>
    <collision name="LLHip3_Link_collision">
      <origin xyz="0.05410637838284813 0.005196313895957175 -0.20155622029885475" rpy="2.8786935033165375 0.09046667825579376 1.5464941877752887"/>
      <geometry>
        <box size="0.12200059773407665 0.15002443346404168 0.474515434996993"/>
      </geometry>
    </collision>
    <visual name="LLKnee_B11_Link_visual">
      <origin xyz="0.020175 0.070737 -0.075294" rpy="-0.15080999999999992 1.3059000000000005 -0.15616999999999992"/>
      <geometry>
        <mesh filename="../meshes/stl/Knee_B11_Link.STL"/>
      </geometry>
      <material name="">
        <color rgba="0.69804 0.69804 0.69804 1.0"/>
      </material>
    </visual>
    <visual name="LLKnee_Act1_Link_visual">
      <origin xyz="0.09088512935033356 0.059603540016275505 -0.3391673631423413" rpy="-0.15080999999999994 1.3059000000000005 -0.15616999999999995"/>
      <geometry>
        <mesh filename="../meshes/stl/Knee_Act1_Link.STL"/>
      </geometry>
      <material name="">
        <color rgba="0.69804 0.69804 0.69804 1.0"/>
      </material>
    </visual>
  </link>
  <joint name="LLKnee" type="revolute">
    <origin xyz="0.10788 -0.0005 -0.39684" rpy="3.1416 1.309 -2.9949e-15"/>
    <axis xyz="0.0 0.0 1.0"/>
    <parent link="LLHip3_Link"/>
    <child link="LLKnee_Link"/>
    <limit effort="325.0" lower="-0.026" upper="1.43" velocity="2.321"/>
  </joint>
  <link name="LLKnee_Link">
    <inertial>
      <origin xyz="0.11911 -0.001888 0.00058411" rpy="0.0 0.0 0.0"/>
      <mass value="2.3690392835599923"/>
      <inertia ixx="0.007186070874806159" ixy="-5.408981012900345e-05" ixz="-0.00010460818246783018" iyy="0.015334532906158908" iyz="-0.0009184931600015315" izz="0.019875099619034924"/>
    </inertial>
    <visual name="LLKnee_Link_visual">
      <origin xyz="0.0 0.0 0.0" rpy="0.0 0.0 0.0"/>
      <geometry>
        <mesh filename="../meshes/stl/Knee_Link.STL"/>
      </geometry>
      <material name="">
        <color rgba="0.69804 0.69804 0.69804 1.0"/>
      </material>
    </visual>
    <collision name="LLKnee_Link_collision">
      <origin xyz="0.18142876774072647 -0.003944786265492439 0.0014998912811279297" rpy="0.0 -0.0 0.0"/>
      <geometry>
        <box size="0.5021360367536545 0.12789290770888329 0.11989995092153549"/>
      </geometry>
    </collision>
    <visual name="LLAnkle_B11_Link_visual">
      <origin xyz="0.12872999008627622 0.022301069894637288 0.02649893010538089" rpy="1.5201995950723244 -1.9755524692725744e-06 1.7452956535986952"/>
      <geometry>
        <mesh filename="../meshes/stl/Ankle_B11_Link.STL"/>
      </geometry>
      <material name="">
        <color rgba="0.69804 0.69804 0.69804 1.0"/>
      </material>
    </visual>
    <visual name="LLAnkle_B12_Link_visual">
      <origin xyz="0.12872999008627622 0.022301069894637288 0.02649893010538089" rpy="1.6213921335695103 0.0003060746390916892 -1.4023021588708646"/>
      <geometry>
        <mesh filename="../meshes/stl/Ankle_B12_Link.STL"/>
      </geometry>
      <material name="">
        <color rgba="0.69804 0.69804 0.69804 1.0"/>
      </material>
    </visual>
    <visual name="LLAnkle_Act1_Link_visual">
      <origin xyz="0.39059846357402106 0.06684327487261481 0.03995015565913803" rpy="-3.135543074958524 1.5202022485750566 0.17453865585220907"/>
      <geometry>
        <mesh filename="../meshes/stl/Ankle_Act1_Link.STL"/>
      </geometry>
      <material name="">
        <color rgba="0.69804 0.69804 0.69804 1.0"/>
      </material>
    </visual>
    <visual name="LLAnkle_B21_Link_visual">
      <origin xyz="0.1287301737465314 0.022301069893962668 -0.023501069894281797" rpy="1.6214049022519106 -1.9755524692725744e-06 1.7452956535986952"/>
      <geometry>
        <mesh filename="../meshes/stl/Ankle_B21_Link.STL"/>
      </geometry>
      <material name="">
        <color rgba="0.69804 0.69804 0.69804 1.0"/>
      </material>
    </visual>
    <visual name="LLAnkle_B22_Link_visual">
      <origin xyz="0.1287301737465314 0.022301069893962668 -0.023501069894281797" rpy="1.520188652771982 -0.00030219472845357864 -1.4023021552616228"/>
      <geometry>
        <mesh filename="../meshes/stl/Ankle_B22_Link.STL"/>
      </geometry>
      <material name="">
        <color rgba="0.69804 0.69804 0.69804 1.0"/>
      </material>
    </visual>
    <visual name="LLAnkle_Act2_Link_visual">
      <origin xyz="0.39059848109430023 0.06684329955582428 -0.03695544775297088" rpy="1.520188652771982 -0.00030219472845357864 -1.4023021552616228"/>
      <geometry>
        <mesh filename="../meshes/stl/Ankle_Act2_Link.STL"/>
      </geometry>
      <material name="">
        <color rgba="0.69804 0.69804 0.69804 1.0"/>
      </material>
    </visual>
  </link>
  <joint name="LRAnklePitch" type="revolute">
    <origin xyz="0.0 0.0 0.0" rpy="0.0 0.0 0.0"/>
    <axis xyz="0.0 1.0 0.0"/>
    <parent link="LRAnkleRoll_Link"/>
    <child link="LRAnklePitch_Link"/>
    <limit effort="200.0" lower="-0.8988445648" upper="0.7853981634" velocity="6.0"/>
  </joint>
  <link name="LRAnklePitch_Link">
    <inertial>
      <origin xyz="2.8493e-18 -1.3878e-16 0.0" rpy="0.0 0.0 0.0"/>
      <mass value="0.05002825763253648"/>
      <inertia ixx="1.1393245912e-05" ixy="1.7670484276950664e-28" ixz="-1.2474451909533485e-12" iyy="1.0892263576532345e-05" iyz="0.0" izz="2.9520429504676554e-06"/>
    </inertial>
    <visual name="LRAnklePitch_Link_visual">
      <origin xyz="0.0 0.0 0.0" rpy="0.0 0.0 0.0"/>
      <geometry>
        <mesh filename="../meshes/stl/AnklePitch_Link.STL"/>
      </geometry>
      <material name="">
        <color rgba="0.79216 0.81961 0.93333 1.0"/>
      </material>
    </visual>
    <visual name="LRAnkle_E21_Link_visual">
      <origin xyz="-0.07 -0.04 0.0" rpy="-0.05066 -0.0 0.0"/>
      <geometry>
        <mesh filename="../meshes/stl/Ankle_E21_Link.STL"/>
      </geometry>
      <material name="">
        <color rgba="0.69804 0.69804 0.69804 1.0"/>
      </material>
    </visual>
    <visual name="LRAnkle_E11_Link_visual">
      <origin xyz="-0.07 0.04 0.0" rpy="0.05066 -0.0 0.0"/>
      <geometry>
        <mesh filename="../meshes/stl/Ankle_E11_Link.STL"/>
      </geometry>
      <material name="">
        <color rgba="0.69804 0.69804 0.69804 1.0"/>
      </material>
    </visual>
  </link>
  <joint name="LRAnkleRoll" type="revolute">
    <origin xyz="0.42 0.0 0.0015" rpy="1.5708 5.551115123125783e-17 -1.5708"/>
    <axis xyz="1.0 0.0 0.0"/>
    <parent link="LRKnee_Link"/>
    <child link="LRAnkleRoll_Link"/>
    <limit effort="200.0" lower="-0.9948376736" upper="0.9948376736" velocity="6.0"/>
  </joint>
  <link name="LRAnkleRoll_Link">
    <inertial>
      <origin xyz="-4.1608e-08 7.2923e-08 -5.2997e-09" rpy="0.0 0.0 0.0"/>
      <mass value="0.02493"/>
      <inertia ixx="2.9269e-06" ixy="-7.8377e-12" ixz="-1.0382e-12" iyy="1.1591e-06" iyz="1.5876e-12" izz="3.5758e-06"/>
    </inertial>
    <visual name="LRAnkleRoll_Link_visual">
      <origin xyz="0.0 0.0 0.0" rpy="0.0 0.0 0.0"/>
      <geometry>
        <mesh filename="../meshes/stl/AnkleRoll_Link.STL"/>
      </geometry>
      <material name="">
        <color rgba="0.64706 0.61961 0.58824 1.0"/>
      </material>
    </visual>
  </link>
  <link name="LRAnkle_FT">
    <inertial>
      <origin xyz="0.016102 4.5932e-05 0.0078533" rpy="0.0 0.0 0.0"/>
      <mass value="1.2348"/>
      <inertia ixx="0.0018722" ixy="1.7891e-07" ixz="-0.00077672" iyy="0.0072567" iyz="3.8393e-06" izz="0.007267"/>
    </inertial>
    <visual name="LRAnkle_FT_visual">
      <origin xyz="0.0 0.0 0.0" rpy="0.0 0.0 0.0"/>
      <geometry>
        <mesh filename="../meshes/stl/FL_FT_Link.STL"/>
      </geometry>
      <material name="">
        <color rgba="0.69804 0.69804 0.69804 1.0"/>
      </material>
    </visual>
  </link>
  <joint name="LRAnkle_FT" type="fixed">
    <origin xyz="0.0 0.0 -0.058972" rpy="-3.1416 0.0 -1.2151e-16"/>
    <axis xyz="0.0 0.0 0.0"/>
    <parent link="LRAnklePitch_Link"/>
    <child link="LRAnkle_FT"/>
  </joint>
  <joint name="LRHip1" type="revolute">
    <origin xyz="0.0735 -0.11044 0.014269" rpy="3.4781e-17 -0.2618 -1.5708"/>
    <axis xyz="0.0 0.0 1.0"/>
    <parent link="RH5_Root_Link"/>
    <child link="LRHip1_Link"/>
    <limit effort="135.0" lower="-0.7854" upper="0.7854" velocity="1.8326"/>
  </joint>
  <link name="LRHip1_Link">
    <inertial>
      <origin xyz="-4.5821e-08 -0.0016166 0.04962" rpy="0.0 0.0 0.0"/>
      <mass value="0.5"/>
      <inertia ixx="0.0020247" ixy="8.3227e-09" ixz="3.6838e-09" iyy="0.00095763" iyz="-0.00012913" izz="0.0015078"/>
    </inertial>
    <visual name="LRHip1_Link_visual">
      <origin xyz="0.0 0.0 0.0" rpy="0.0 0.0 0.0"/>
      <geometry>
        <mesh filename="../meshes/stl/LRHip1_Link.STL"/>
      </geometry>
      <material name="">
        <color rgba="0.69804 0.69804 0.69804 1.0"/>
      </material>
    </visual>
  </link>
  <joint name="LRHip2" type="revolute">
    <origin xyz="0.0 0.0 0.0" rpy="-4.0161e-17 0.5236 -2.0081e-17"/>
    <axis xyz="0.0 1.0 0.0"/>
    <parent link="LRHip1_Link"/>
    <child link="LRHip2_Link"/>
    <limit effort="135.0" lower="-0.8727" upper="0.4363" velocity="1.8326"/>
  </joint>
  <link name="LRHip2_Link">
    <inertial>
      <origin xyz="0.0013954 0.0024309 -0.0053241" rpy="0.0 0.0 0.0"/>
      <mass value="2.3580361324518035"/>
      <inertia ixx="0.008083434004413779" ixy="2.6244834705305358e-05" ixz="0.0015310237705679207" iyy="0.007915769158281745" iyz="-9.344933737144451e-05" izz="0.0027252481373044738"/>
    </inertial>
    <visual name="LRHip2_Link_visual">
      <origin xyz="0.0 0.0 0.0" rpy="0.0 0.0 0.0"/>
      <geometry>
        <mesh filename="../meshes/stl/LRHip2_Link.STL"/>
      </geometry>
      <material name="">
        <color rgba="0.69804 0.69804 0.69804 1.0"/>
      </material>
    </visual>
    <visual name="LRHip3_B11_Link_visual">
      <origin xyz="0.018117 -0.09 -0.067615" rpy="-2.5686 1.2576999999999998 0.5958800000000001"/>
      <geometry>
        <mesh filename="../meshes/stl/Hip3_B11_Link.STL"/>
      </geometry>
      <material name="">
        <color rgba="0.69804 0.69804 0.69804 1.0"/>
      </material>
    </visual>
    <visual name="LRHip3_Act1_Link_visual">
      <origin xyz="0.09393098308289657 -0.038590125898753366 -0.3505567339559511" rpy="0.5729999999999998 1.2576999999999994 0.5958800000000001"/>
      <geometry>
        <mesh filename="../meshes/stl/LLHip3_Act1_Link.STL"/>
      </geometry>
      <material name="">
        <color rgba="0.69804 0.69804 0.69804 1.0"/>
      </material>
    </visual>
  </link>
  <joint name="LRHip3" type="revolute">
    <origin xyz="0.0 0.0 0.0" rpy="9.8608e-32 2.7756e-17 -4.9304e-32"/>
    <axis xyz="-0.96593 0.0 -0.25882"/>
    <parent link="LRHip2_Link"/>
    <child link="LRHip3_Link"/>
    <limit effort="378.0" lower="-1.16" upper="0.28" velocity="2.321"/>
  </joint>
  <link name="LRHip3_Link">
    <inertial>
      <origin xyz="0.051263 0.0072511 -0.19232" rpy="0.0 0.0 0.0"/>
      <mass value="2.4377337930824305"/>
      <inertia ixx="0.0267577627146784" ixy="3.2673817728971014e-05" ixz="0.0032268691746643605" iyy="0.029394554214711634" iyz="-0.0001498356765101371" izz="0.005399934370609966"/>
    </inertial>
    <visual name="LRHip3_Link_visual">
      <origin xyz="0.0 0.0 0.0" rpy="0.0 0.0 0.0"/>
      <geometry>
        <mesh filename="../meshes/stl/Hip3_Link.STL"/>
      </geometry>
      <material name="">
        <color rgba="0.69804 0.69804 0.69804 1.0"/>
      </material>
    </visual>
    <collision name="LRHip3_Link_collision">
      <origin xyz="0.05410637838284813 0.005196313895957175 -0.20155622029885475" rpy="2.8786935033165375 0.09046667825579376 1.5464941877752887"/>
      <geometry>
        <box size="0.12200059773407665 0.15002443346404168 0.474515434996993"/>
      </geometry>
    </collision>
    <visual name="LRKnee_B11_Link_visual">
      <origin xyz="0.020175 0.070737 -0.075294" rpy="-0.15080999999999992 1.3059000000000005 -0.15616999999999992"/>
      <geometry>
        <mesh filename="../meshes/stl/Knee_B11_Link.STL"/>
      </geometry>
      <material name="">
        <color rgba="0.69804 0.69804 0.69804 1.0"/>
      </material>
    </visual>
    <visual name="LRKnee_Act1_Link_visual">
      <origin xyz="0.09088512935033356 0.059603540016275505 -0.3391673631423413" rpy="-0.15080999999999994 1.3059000000000005 -0.15616999999999995"/>
      <geometry>
        <mesh filename="../meshes/stl/Knee_Act1_Link.STL"/>
      </geometry>
      <material name="">
        <color rgba="0.69804 0.69804 0.69804 1.0"/>
      </material>
    </visual>
  </link>
  <joint name="LRKnee" type="revolute">
    <origin xyz="0.10788 -0.0005 -0.39684" rpy="3.1416 1.309 -2.9949e-15"/>
    <axis xyz="0.0 0.0 1.0"/>
    <parent link="LRHip3_Link"/>
    <child link="LRKnee_Link"/>
    <limit effort="325.0" lower="-0.026" upper="1.43" velocity="2.321"/>
  </joint>
  <link name="LRKnee_Link">
    <inertial>
      <origin xyz="0.11911 -0.001888 0.00058411" rpy="0.0 0.0 0.0"/>
      <mass value="2.369041606483567"/>
      <inertia ixx="0.00718607087481035" ixy="-5.4089810208980605e-05" ixz="-0.00010460818216963791" iyy="0.015334532907684004" iyz="-0.0009184931643303047" izz="0.01987509961750564"/>
    </inertial>
    <visual name="LRKnee_Link_visual">
      <origin xyz="0.0 0.0 0.0" rpy="0.0 0.0 0.0"/>
      <geometry>
        <mesh filename="../meshes/stl/Knee_Link.STL"/>
      </geometry>
      <material name="">
        <color rgba="0.69804 0.69804 0.69804 1.0"/>
      </material>
    </visual>
    <collision name="LRKnee_Link_collision">
      <origin xyz="0.18142876774072647 -0.003944786265492439 0.0014998912811279297" rpy="0.0 -0.0 0.0"/>
      <geometry>
        <box size="0.5021360367536545 0.12789290770888329 0.11989995092153549"/>
      </geometry>
    </collision>
    <visual name="LRAnkle_B11_Link_visual">
      <origin xyz="0.12872999008627622 0.022301069894637288 0.02649893010538089" rpy="1.5201995950723244 -1.9755524692725744e-06 1.7452956535986952"/>
      <geometry>
        <mesh filename="../meshes/stl/Ankle_B11_Link.STL"/>
      </geometry>
      <material name="">
        <color rgba="0.69804 0.69804 0.69804 1.0"/>
      </material>
    </visual>
    <visual name="LRAnkle_B12_Link_visual">
      <origin xyz="0.12872999008627622 0.022301069894637288 0.02649893010538089" rpy="1.6213921335695103 0.0003060746390916892 -1.4023021588708646"/>
      <geometry>
        <mesh filename="../meshes/stl/Ankle_B12_Link.STL"/>
      </geometry>
      <material name="">
        <color rgba="0.69804 0.69804 0.69804 1.0"/>
      </material>
    </visual>
    <visual name="LRAnkle_Act1_Link_visual">
      <origin xyz="0.39059846357402106 0.06684327487261481 0.03995015565913803" rpy="-3.135543074958524 1.5202022485750566 0.17453865585220907"/>
      <geometry>
        <mesh filename="../meshes/stl/Ankle_Act1_Link.STL"/>
      </geometry>
      <material name="">
        <color rgba="0.69804 0.69804 0.69804 1.0"/>
      </material>
    </visual>
    <visual name="LRAnkle_B21_Link_visual">
      <origin xyz="0.1287301737465314 0.022301069893962668 -0.023501069894281797" rpy="1.5201877513328248 1.8413153890626716e-06 -1.3962996501833926"/>
      <geometry>
        <mesh filename="../meshes/stl/Ankle_B21_Link.STL"/>
      </geometry>
      <material name="">
        <color rgba="0.69804 0.69804 0.69804 1.0"/>
      </material>
    </visual>
    <visual name="LRAnkle_B22_Link_visual">
      <origin xyz="0.1287301737465314 0.022301069893962668 -0.023501069894281797" rpy="1.520188652771982 -0.00030219472845357864 -1.4023021552616228"/>
      <geometry>
        <mesh filename="../meshes/stl/Ankle_B22_Link.STL"/>
      </geometry>
      <material name="">
        <color rgba="0.69804 0.69804 0.69804 1.0"/>
      </material>
    </visual>
    <visual name="LRAnkle_Act2_Link_visual">
      <origin xyz="0.39059848109430023 0.06684329955582428 -0.03695544775297088" rpy="1.520188652771982 -0.00030219472845357864 -1.4023021552616228"/>
      <geometry>
        <mesh filename="../meshes/stl/Ankle_Act2_Link.STL"/>
      </geometry>
      <material name="">
        <color rgba="0.69804 0.69804 0.69804 1.0"/>
      </material>
    </visual>
  </link>
  <link name="RH5_Root_Link">
    <inertial>
      <origin xyz="0.057726 2.1253e-05 0.13284" rpy="0.0 0.0 0.0"/>
      <mass value="4.80289768335972"/>
      <inertia ixx="0.03304656577513494" ixy="-3.6100616894227637e-06" ixz="-0.0020457081602203537" iyy="0.021956704" iyz="-5.465636509300982e-06" izz="0.03752923602486506"/>
    </inertial>
    <visual name="RH5_Root_Link_visual">
      <origin xyz="0.0 0.0 0.0" rpy="0.0 0.0 0.0"/>
      <geometry>
        <mesh filename="../meshes/stl/RH5_Root_Link.STL"/>
      </geometry>
      <material name="">
        <color rgba="0.69804 0.69804 0.69804 1.0"/>
      </material>
    </visual>
    <collision name="RH5_Root_Link_collision">
      <origin xyz="0.04128999263048172 0.0 0.1133179023017874" rpy="0.0 -0.0 0.0"/>
      <geometry>
        <box size="0.2746039479970932 0.3261495530605316 0.22715241627884097"/>
      </geometry>
    </collision>
    <visual name="Body_B21_Link_visual">
      <origin xyz="-0.032000000000097936 0.019999999999651706 0.007000000000004142" rpy="-0.23917265358958625 -1.0127441837298582e-24 9.793190564044702e-12"/>
      <geometry>
        <mesh filename="../meshes/stl/Body_B21_Link.STL"/>
      </geometry>
      <material name="">
        <color rgba="0.69804 0.69804 0.69804 1.0"/>
      </material>
    </visual>
    <visual name="Body_B22_Link_visual">
      <origin xyz="-0.032000000000097936 0.019999999999651706 0.007000000000004142" rpy="-0.23941646446807321 -0.044699407566615786 0.010906984228219958"/>
      <geometry>
        <mesh filename="../meshes/stl/Body_B22_Link.STL"/>
      </geometry>
      <material name="">
        <color rgba="0.69804 0.69804 0.69804 1.0"/>
      </material>
    </visual>
    <visual name="Body_Act2_Link_visual">
      <origin xyz="-0.04304218393473293 0.0768145018662063 0.23999911792024206" rpy="-0.23941646446807358 -0.044699407566615786 0.010906984228220049"/>
      <geometry>
        <mesh filename="../meshes/stl/Body_Act2_Link.STL"/>
      </geometry>
      <material name="">
        <color rgba="0.69804 0.69804 0.69804 1.0"/>
      </material>
    </visual>
    <visual name="Body_B11_Link_visual">
      <origin xyz="-0.031999999999902065 -0.020000000000348295 0.006999999999995871" rpy="0.23917265358999984 -1.0127441837298582e-24 9.793190564044702e-12"/>
      <geometry>
        <mesh filename="../meshes/stl/Body_B11_Link.STL"/>
      </geometry>
      <material name="">
        <color rgba="0.69804 0.69804 0.69804 1.0"/>
      </material>
    </visual>
    <visual name="Body_B12_Link_visual">
      <origin xyz="-0.031999999999902065 -0.020000000000348295 0.006999999999995871" rpy="0.2394164644684859 -0.044699407566611275 -0.01090698420865236"/>
      <geometry>
        <mesh filename="../meshes/stl/Body_B12_Link.STL"/>
      </geometry>
      <material name="">
        <color rgba="0.69804 0.69804 0.69804 1.0"/>
      </material>
    </visual>
    <visual name="Body_Act1_Link_visual">
      <origin xyz="-0.043042183933424266 -0.07681450186721515 0.2399991179202104" rpy="0.2394164644684859 -0.044699407566611275 -0.01090698420865236"/>
      <geometry>
        <mesh filename="../meshes/stl/Body_Act1_Link.STL"/>
      </geometry>
      <material name="">
        <color rgba="0.69804 0.69804 0.69804 1.0"/>
      </material>
    </visual>
  </link>
  <joint name="VLP16" type="fixed">
    <origin xyz="0.0 0.0 0.56179" rpy="0.0 0.0 0.0"/>
    <axis xyz="0.0 0.0 1.0"/>
    <parent link="BodyYaw_Link"/>
    <child link="VLP16_Link"/>
  </joint>
  <link name="VLP16_Link"/>
</robot>
